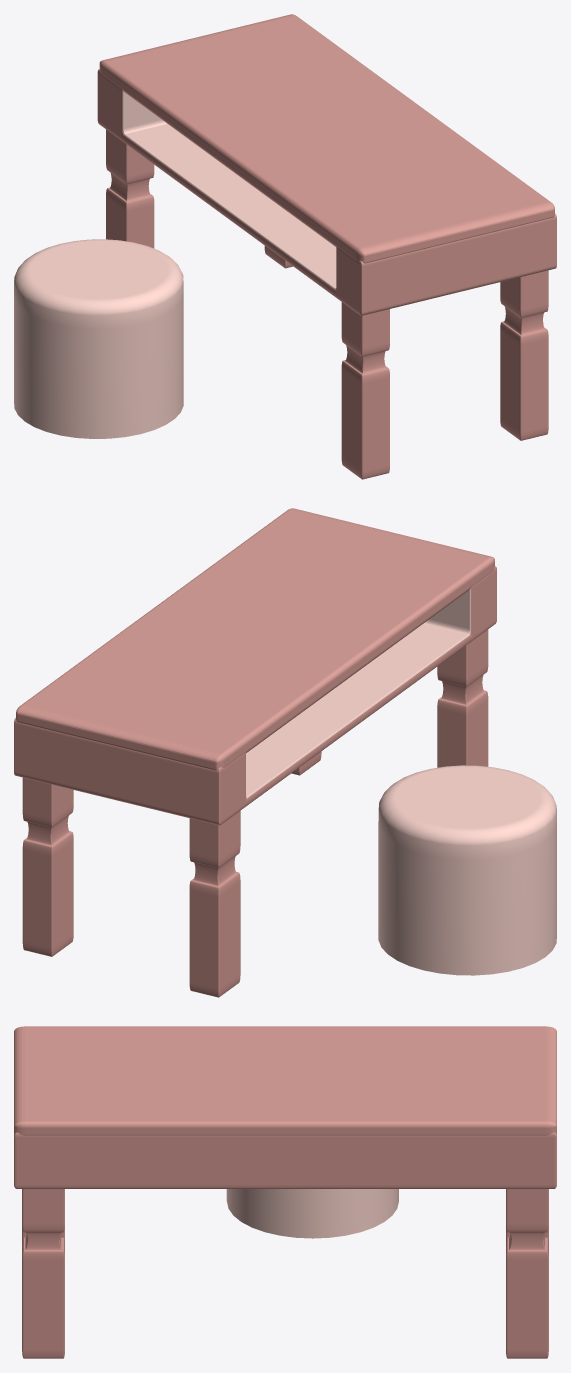
Rendered from Desk_One.fbx.
3 renders of one model, top to bottom at view 1: azimuth 30°, elevation 25°; view 2: azimuth 150°, elevation 25°; view 3: azimuth 270°, elevation 25°, orthographic. The views are drawn at different scales.
Visible parts, largest first — view 1: Cube.024, Cylinder.021, Cube.026, Cube.025; view 2: Cube.024, Cylinder.021, Cube.026, Cube.025; view 3: Cube.024, Cube.026, Cube.025, Cylinder.021.
Boxes of the visible parts, x1=… form: Cube.024: x1=99, y1=14, x2=554, y2=263; Cylinder.021: x1=14, y1=239, x2=183, y2=438; Cube.026: x1=97, y1=69, x2=556, y2=315; Cube.025: x1=106, y1=129, x2=548, y2=479; Cube.024: x1=16, y1=508, x2=494, y2=770; Cylinder.021: x1=378, y1=765, x2=556, y2=975; Cube.026: x1=14, y1=566, x2=496, y2=825; Cube.025: x1=22, y1=629, x2=488, y2=997; Cube.024: x1=14, y1=1026, x2=556, y2=1135; Cube.026: x1=14, y1=1132, x2=556, y2=1188; Cube.025: x1=22, y1=1189, x2=548, y2=1358; Cylinder.021: x1=226, y1=1189, x2=398, y2=1238.
Bounding box in the file's own units: 296 × 350 × 169.
